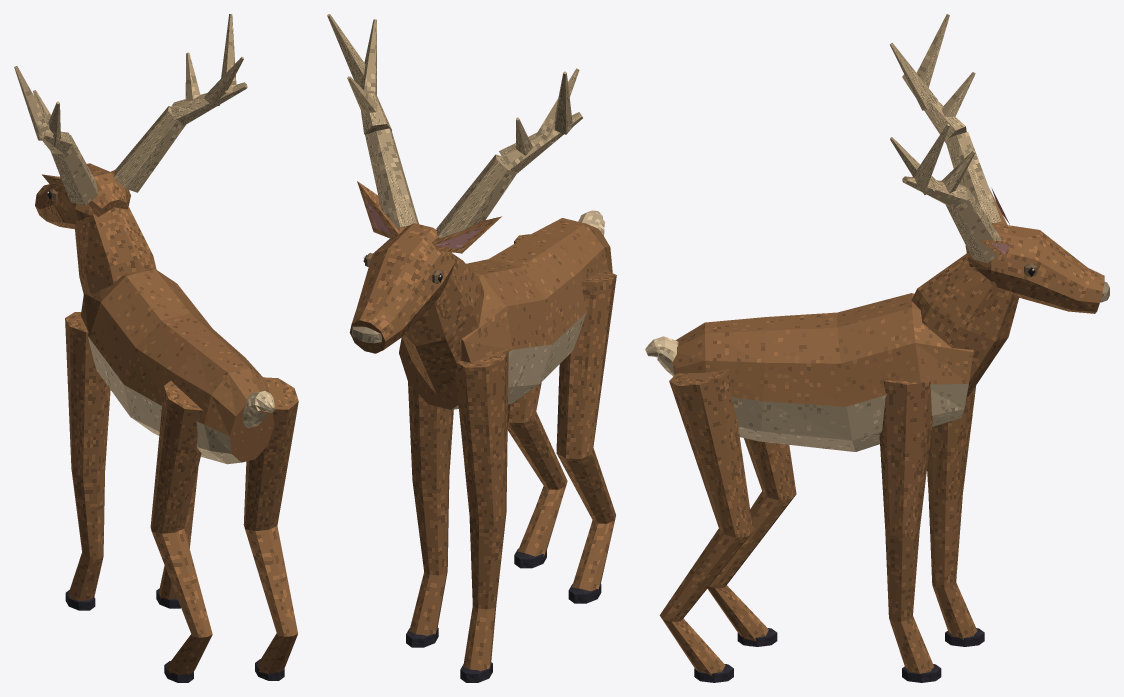
The model's file is mon_deer.glb.
The picture shows the model from 3 angles, left to right: view 1: azimuth 30°, elevation 25°; view 2: azimuth 150°, elevation 25°; view 3: azimuth 270°, elevation 25°; orthographic projection. The views are drawn at different scales.
Parts seen in each view (by area): view 1: closed_body; view 2: closed_body; view 3: closed_body.
Part boxes in pixels (bbox=[...]): closed_body: bbox=[14, 14, 298, 682]; closed_body: bbox=[327, 14, 616, 682]; closed_body: bbox=[645, 14, 1109, 682].
Bounding box in the file's own units: 0.9864 × 2.45 × 1.73.
Materials: 1 (1 with a texture image).
